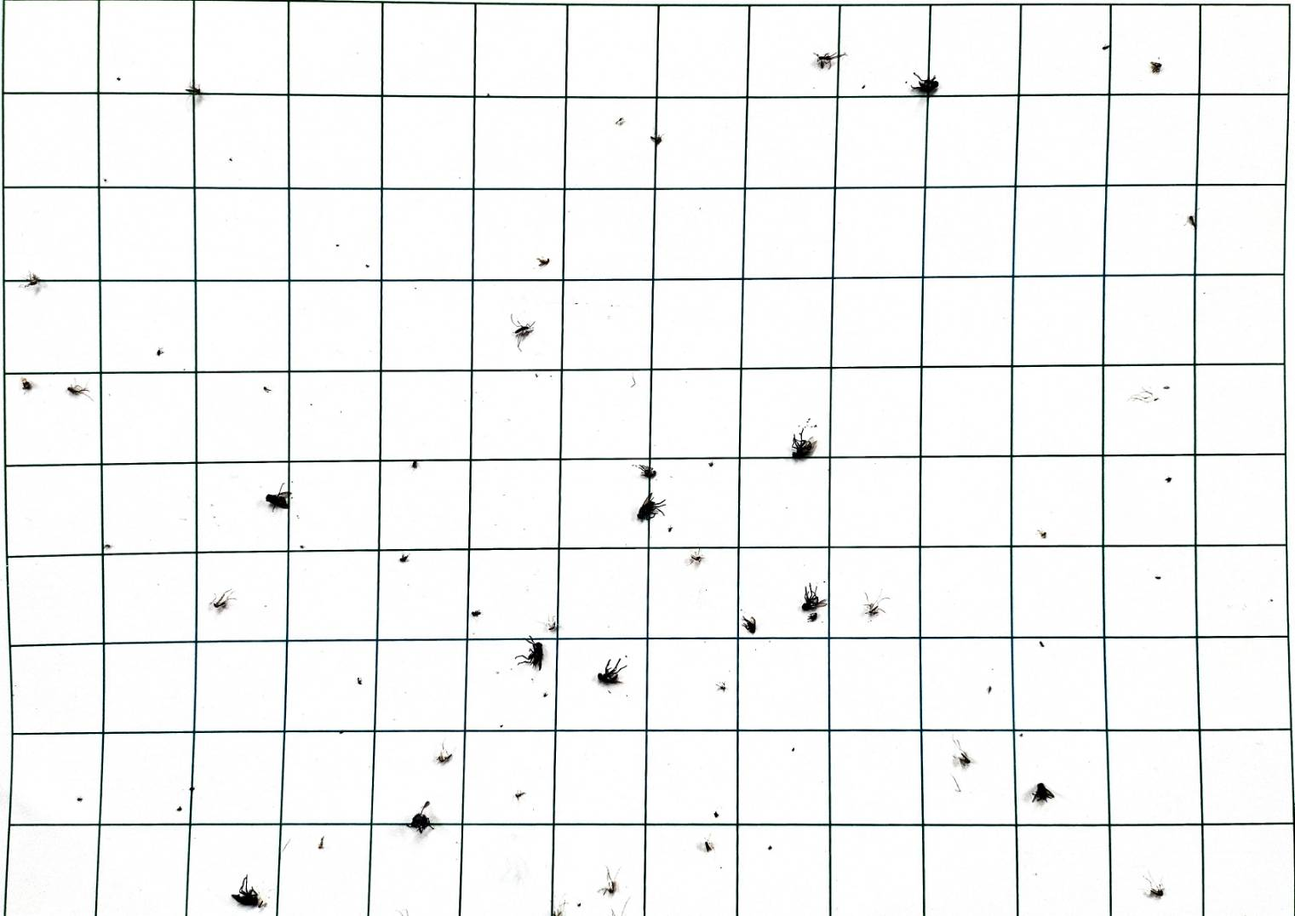fly: (516, 634, 547, 669), (637, 489, 667, 524), (597, 658, 627, 686), (801, 581, 828, 612), (909, 70, 940, 94), (231, 886, 261, 907), (1029, 783, 1055, 805), (790, 437, 813, 461), (408, 811, 432, 834), (265, 492, 291, 511), (635, 463, 658, 479)
test: (510, 313, 535, 349), (1128, 387, 1161, 403), (863, 600, 887, 619), (67, 382, 92, 400), (613, 894, 631, 916), (543, 613, 560, 634), (688, 547, 705, 565), (814, 53, 833, 69), (552, 898, 568, 916), (742, 615, 757, 634), (957, 751, 973, 768), (26, 272, 41, 288), (1146, 886, 1165, 898), (212, 595, 227, 610), (436, 750, 452, 764), (186, 83, 202, 97), (597, 884, 613, 897), (418, 800, 431, 816), (240, 874, 249, 896), (951, 773, 961, 792), (1149, 60, 1162, 74), (21, 376, 34, 390), (650, 134, 663, 147), (703, 839, 715, 853), (1185, 215, 1196, 229), (282, 837, 291, 853), (536, 256, 549, 267), (396, 906, 410, 916), (716, 681, 727, 692), (514, 791, 526, 801), (317, 835, 325, 849), (1037, 529, 1048, 539), (335, 725, 345, 736), (482, 86, 491, 98), (399, 553, 409, 563), (614, 117, 625, 126), (294, 540, 303, 551), (99, 175, 110, 184), (630, 375, 637, 388), (493, 722, 504, 730), (1268, 593, 1275, 605), (471, 609, 481, 617), (156, 347, 164, 356), (362, 261, 370, 270), (112, 73, 122, 80), (330, 240, 338, 248), (411, 460, 418, 469), (263, 386, 271, 393), (226, 155, 233, 163), (176, 805, 183, 812), (1165, 476, 1172, 483), (356, 677, 362, 685), (1102, 44, 1110, 50), (104, 543, 112, 549), (1039, 640, 1045, 648), (713, 811, 719, 818), (707, 461, 714, 467), (542, 691, 548, 698), (987, 686, 992, 694), (77, 796, 83, 802), (1155, 575, 1162, 580), (1163, 385, 1170, 390), (189, 786, 195, 791), (576, 901, 581, 907), (768, 845, 773, 851), (861, 84, 866, 90), (1019, 732, 1024, 737), (116, 76, 121, 81), (791, 746, 795, 752)
